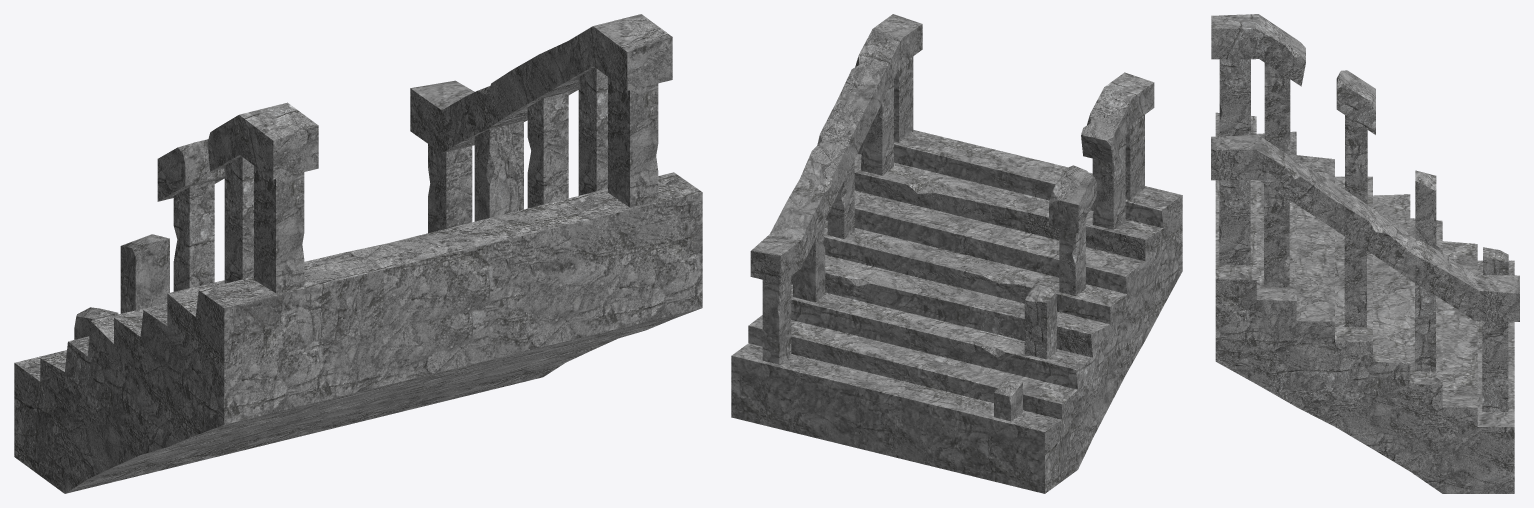
The model's file is materials_3_stairs_5.fbx.
3 views of the same model, side by side, from view 1: azimuth 30°, elevation 25°; view 2: azimuth 150°, elevation 25°; view 3: azimuth 270°, elevation 25° (orthographic). The views are drawn at different scales.
Parts seen in each view (by area): view 1: materials_3_stairs_5; view 2: materials_3_stairs_5; view 3: materials_3_stairs_5.
Boxes of the visible parts, x1=… form: materials_3_stairs_5: x1=14, y1=14, x2=702, y2=493; materials_3_stairs_5: x1=731, y1=14, x2=1182, y2=493; materials_3_stairs_5: x1=1211, y1=14, x2=1519, y2=493.
Size of the model in its own units: 234 by 218 by 184.
